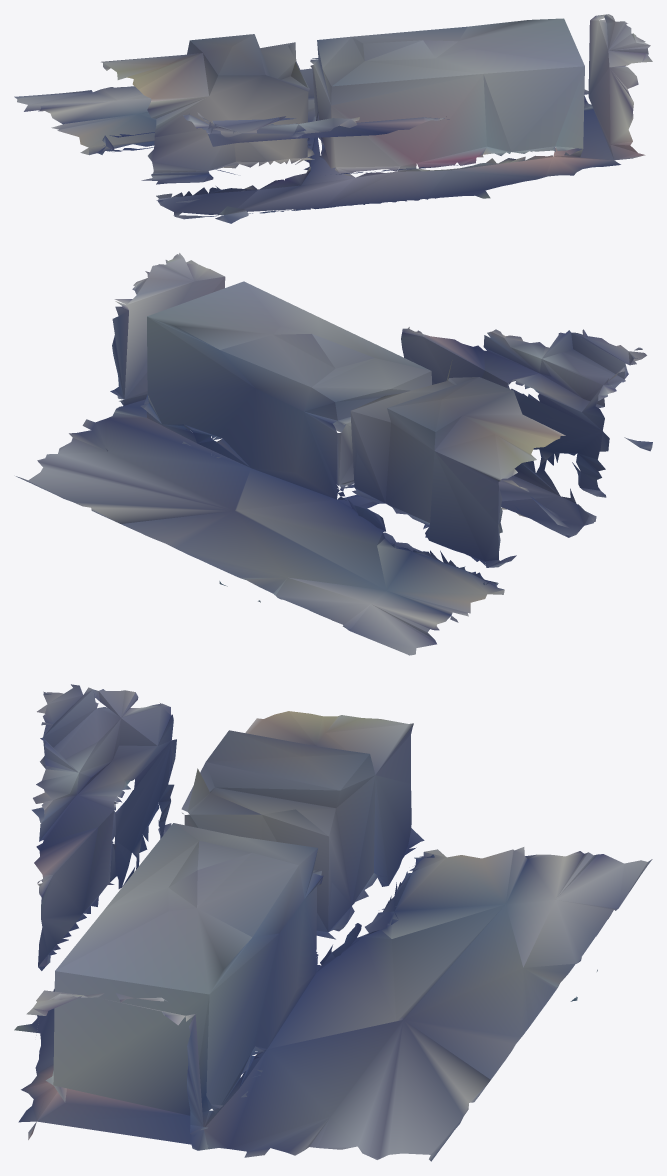
The picture shows the model from 3 angles, top to bottom: view 1: azimuth 30°, elevation 25°; view 2: azimuth 150°, elevation 25°; view 3: azimuth 270°, elevation 25°; orthographic projection. The views are drawn at different scales.
Size of the model in its own units: 107 by 29.24 by 93.02.
